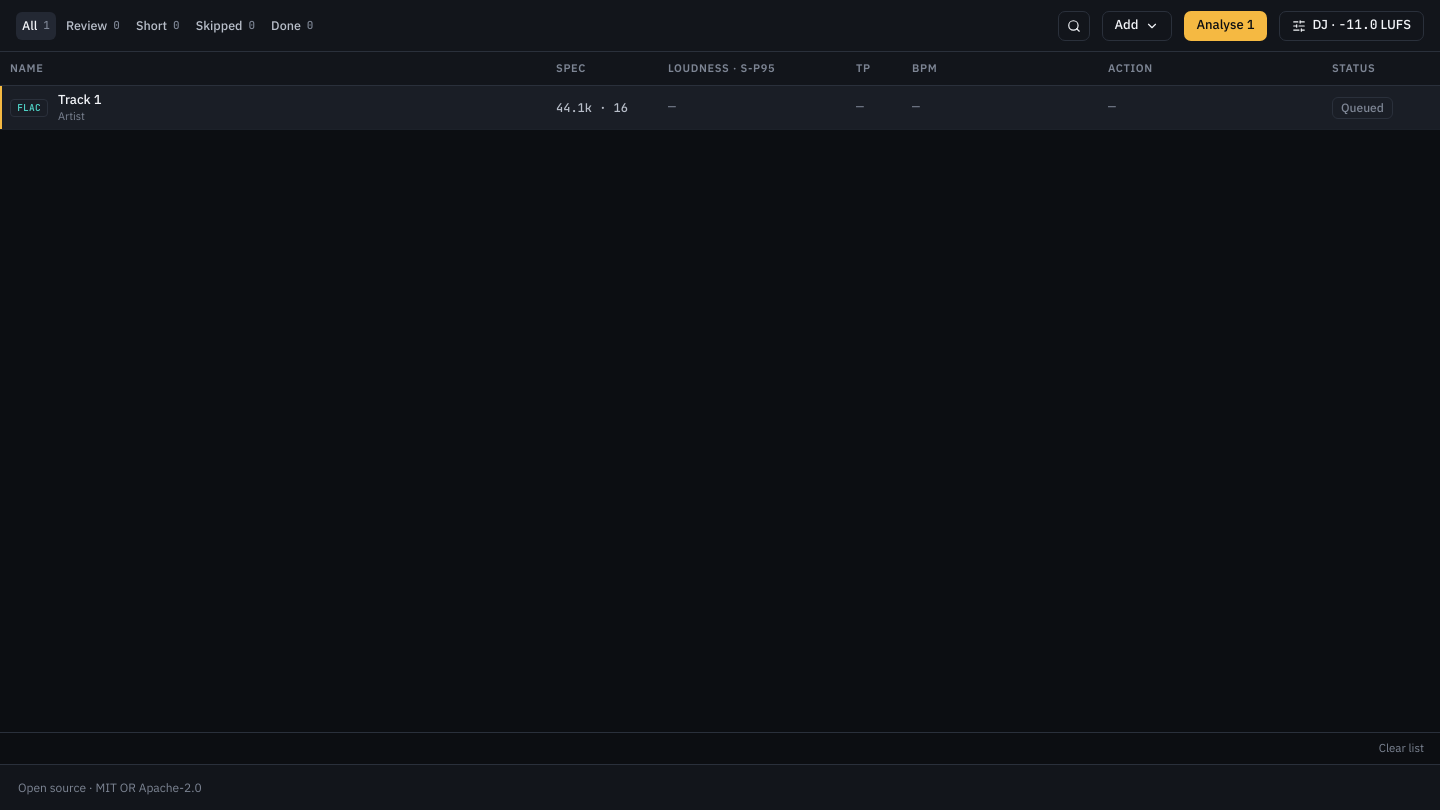
it: the toolbar in a narrow window › puts Add folder and Add tracks in one menu, and leaves the key hints out
Expected: the button "Add folder" is not shown
Click the button "Add".
click(1136, 26)  # box top-left (1102, 10), bottom-right (1172, 40)
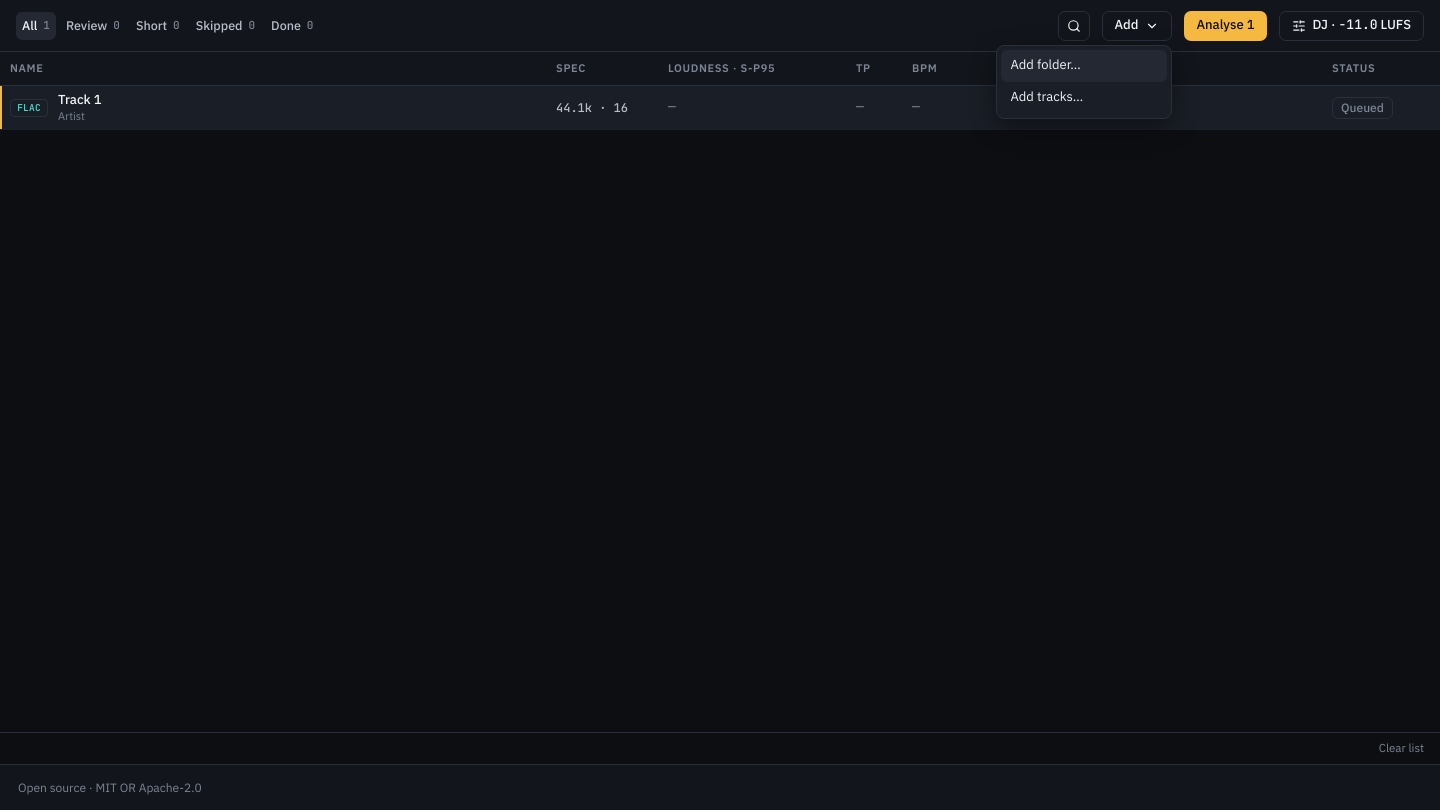
Now the menu items read "Add folder…", "Add tracks…", in this order, box top-left (1000, 50), bottom-right (1166, 82); top-left (1000, 82), bottom-right (1166, 114)
Press ArrowDown in the menu "Add", box top-left (996, 44), bottom-right (1172, 118)
# Esc closes it and gives focus back to its button.
Press Escape in the menu "Add", box top-left (996, 44), bottom-right (1172, 118)
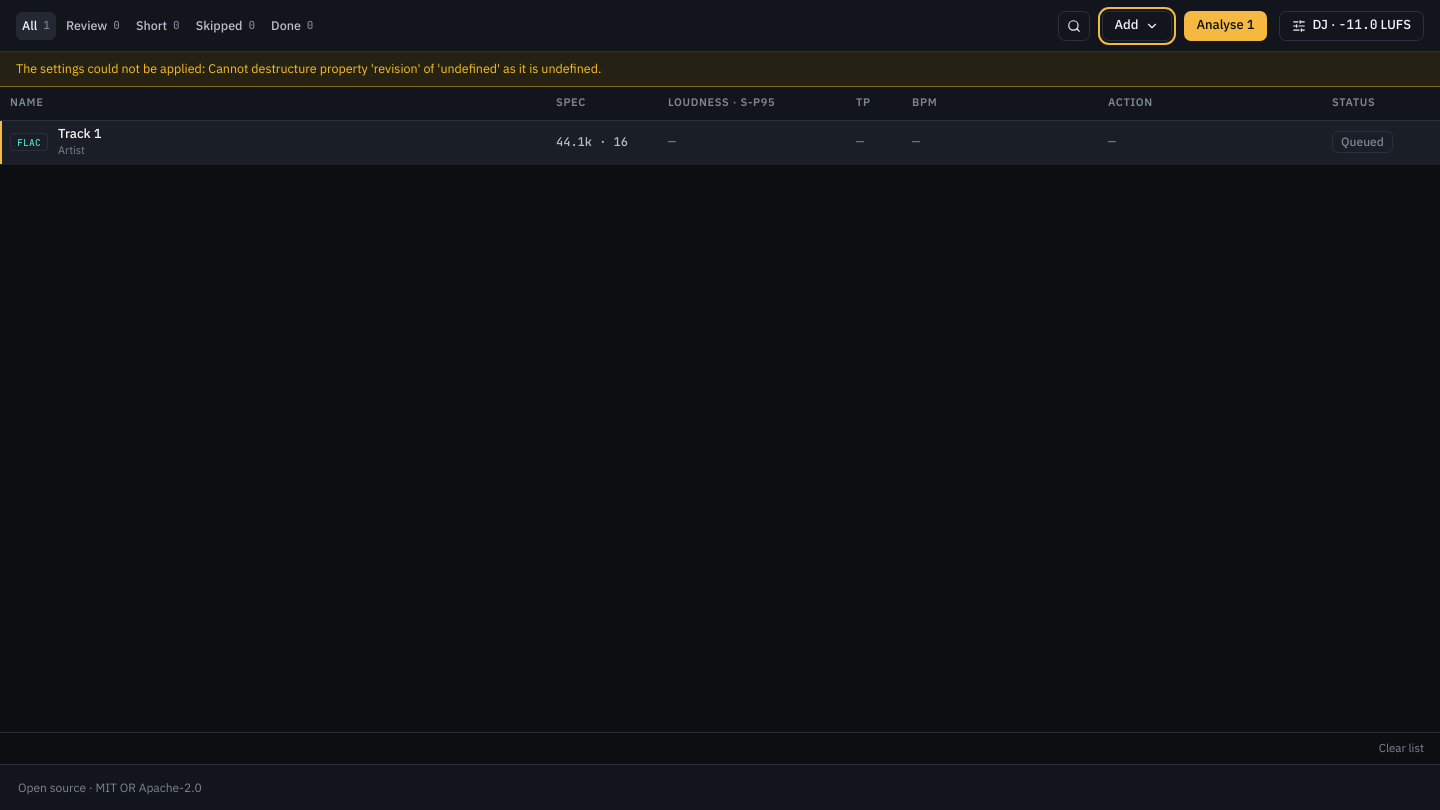
Now the menu is gone
